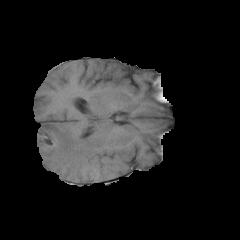glioma: (38, 115, 122, 180)
